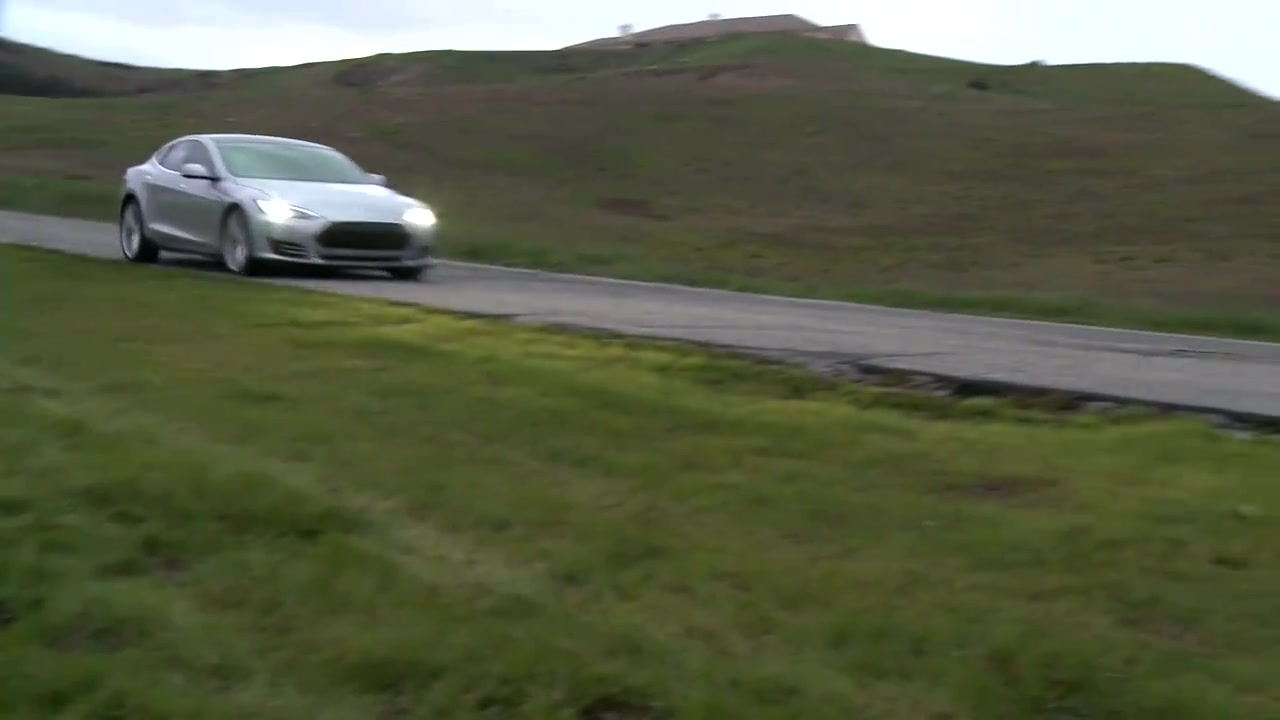car: (115, 132, 439, 284)
